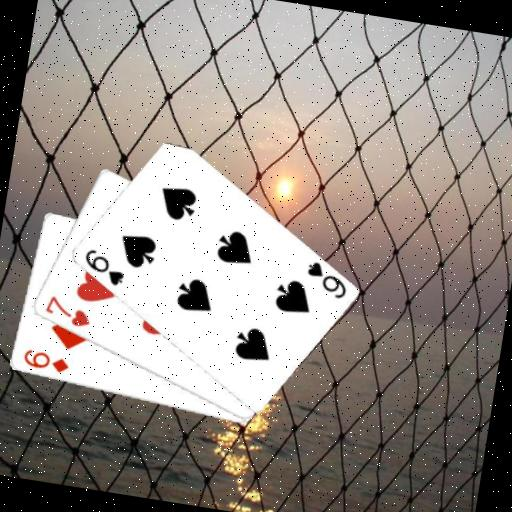6D: (18, 345, 71, 376)
6S: (300, 257, 352, 301), (78, 244, 129, 288)
7H: (39, 291, 94, 330)
